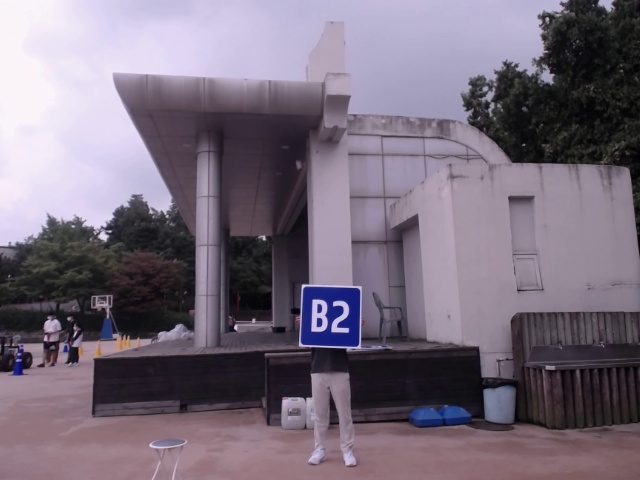delivery_b2: (302, 286, 360, 346)
